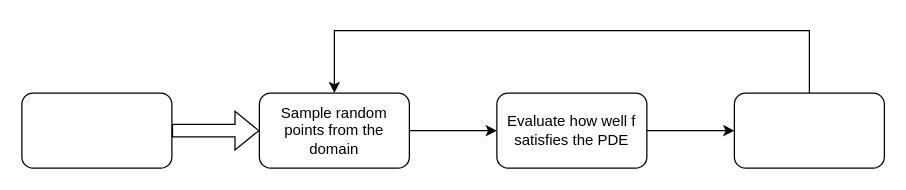
Image size: 906x190. Some labels were removed from this diagram. The centre of each missing label's shape, as x and y in pixels:
"Adjust f such that it better satisfies the PDE" goes at point (808, 130).
"Choose a function f" goes at point (96, 130).
